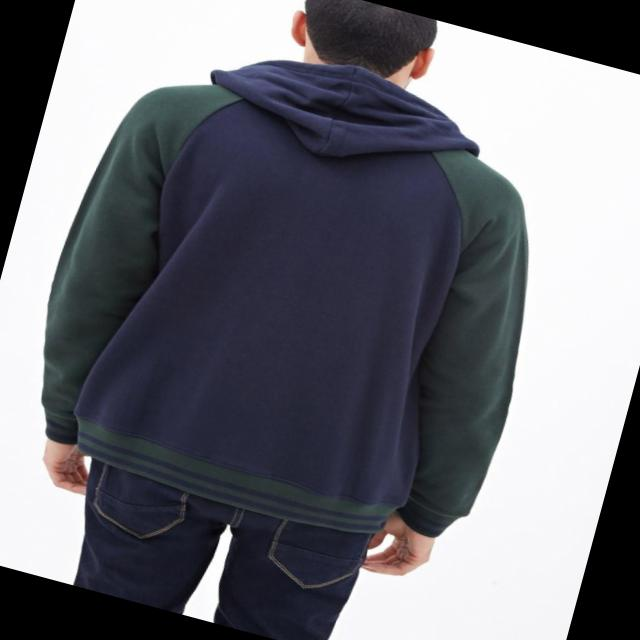Jacket: (0, 22, 585, 572)
